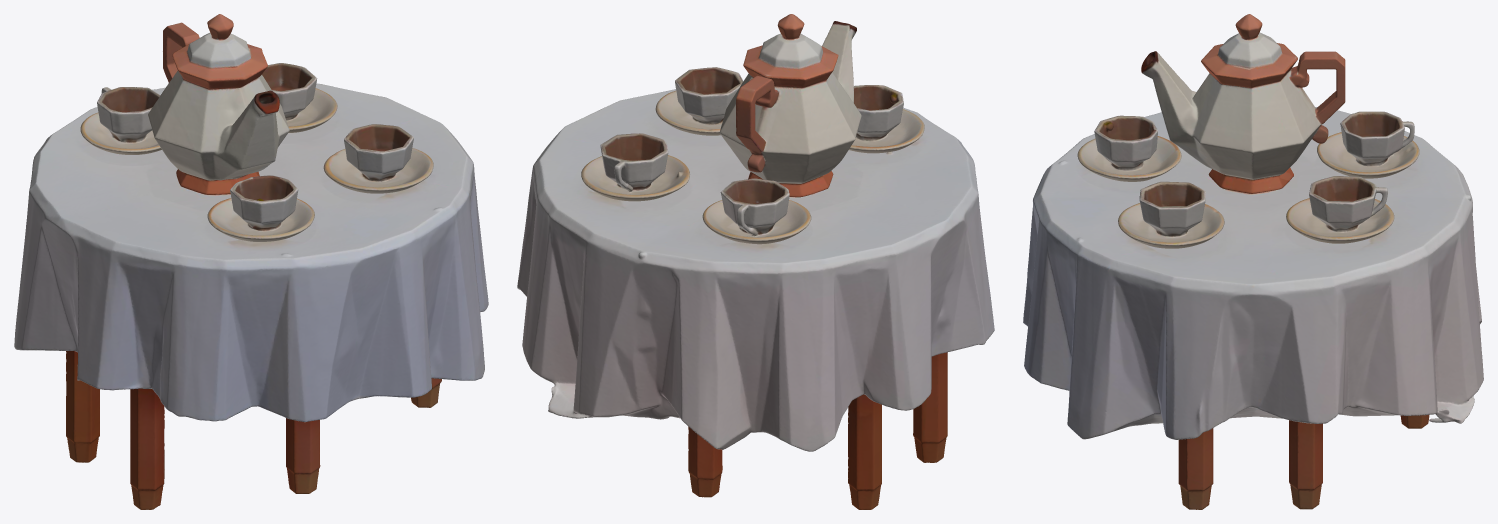
The model's file is tea_table.glb.
3 views of the same model, side by side, from view 1: azimuth 30°, elevation 25°; view 2: azimuth 150°, elevation 25°; view 3: azimuth 270°, elevation 25° (orthographic).
Parts seen in each view (by area): view 1: tripo_node_b5a1c2b3-3cfb-46c5-9156-3fdf4a0fe601; view 2: tripo_node_b5a1c2b3-3cfb-46c5-9156-3fdf4a0fe601; view 3: tripo_node_b5a1c2b3-3cfb-46c5-9156-3fdf4a0fe601.
Boxes of the visible parts, x1,y1,x2,y2 form: tripo_node_b5a1c2b3-3cfb-46c5-9156-3fdf4a0fe601: (14,14,488,509); tripo_node_b5a1c2b3-3cfb-46c5-9156-3fdf4a0fe601: (517,14,994,509); tripo_node_b5a1c2b3-3cfb-46c5-9156-3fdf4a0fe601: (1023,14,1483,509).
Bounding box in the file's own units: 0.9617 × 1 × 0.9616.
1 material, 1 textured.
